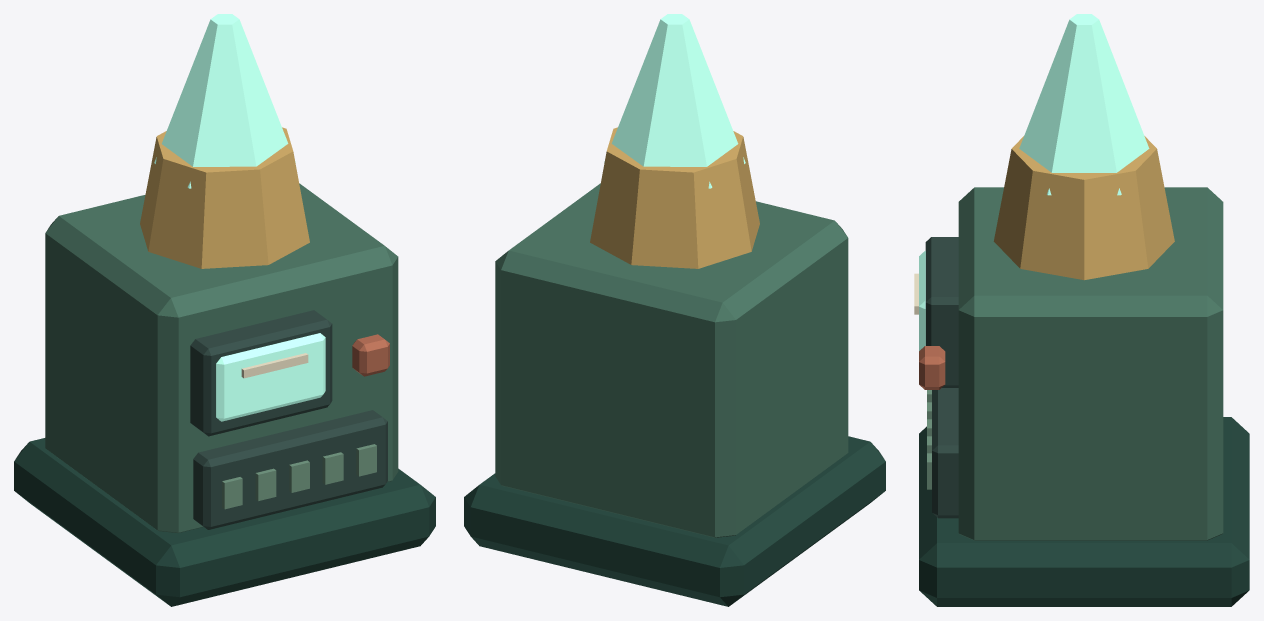
File: core.glb
3 views of the same model, side by side, from view 1: azimuth 30°, elevation 25°; view 2: azimuth 150°, elevation 25°; view 3: azimuth 270°, elevation 25° (orthographic). The views are drawn at different scales.
Visible parts, largest first — view 1: green_Asset_core, deep_Asset_core, outline_Asset_core, screen_Asset_core, brass_Asset_core, sage_Asset_core, earth_Asset_core, ivory_Asset_core; view 2: green_Asset_core, deep_Asset_core, brass_Asset_core, screen_Asset_core; view 3: green_Asset_core, deep_Asset_core, brass_Asset_core, screen_Asset_core, outline_Asset_core, earth_Asset_core, sage_Asset_core.
Boxes of the visible parts, x1,y1,x2,y2 form: green_Asset_core: (45,183,398,532); deep_Asset_core: (14,438,435,606); outline_Asset_core: (190,310,387,529); screen_Asset_core: (154,14,325,421); brass_Asset_core: (140,127,309,268); sage_Asset_core: (222,444,376,509); earth_Asset_core: (352,334,389,376); ivory_Asset_core: (241,353,308,378); green_Asset_core: (495,183,848,537); deep_Asset_core: (464,436,885,606); brass_Asset_core: (590,127,759,268); screen_Asset_core: (604,14,745,188); green_Asset_core: (958,187,1223,540); deep_Asset_core: (919,417,1249,606); brass_Asset_core: (993,136,1174,280); screen_Asset_core: (919,14,1149,350); outline_Asset_core: (925,237,958,518); earth_Asset_core: (919,346,945,389); sage_Asset_core: (927,390,931,489).
Bounding box in the file's own units: 1 × 1.73 × 1.
